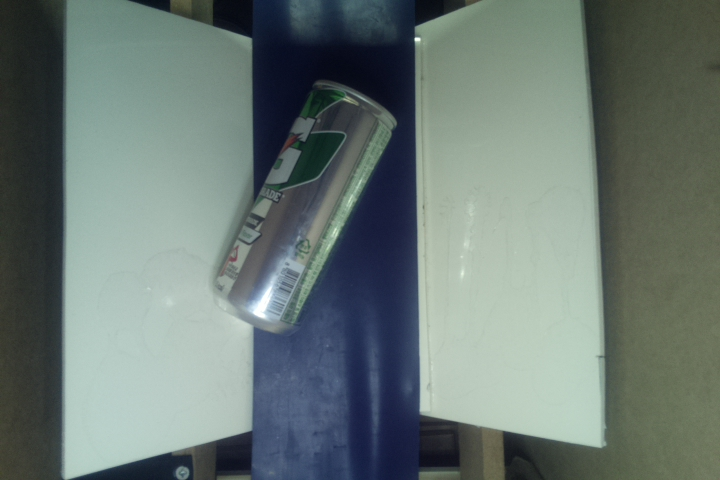can: (213, 75, 398, 337)
